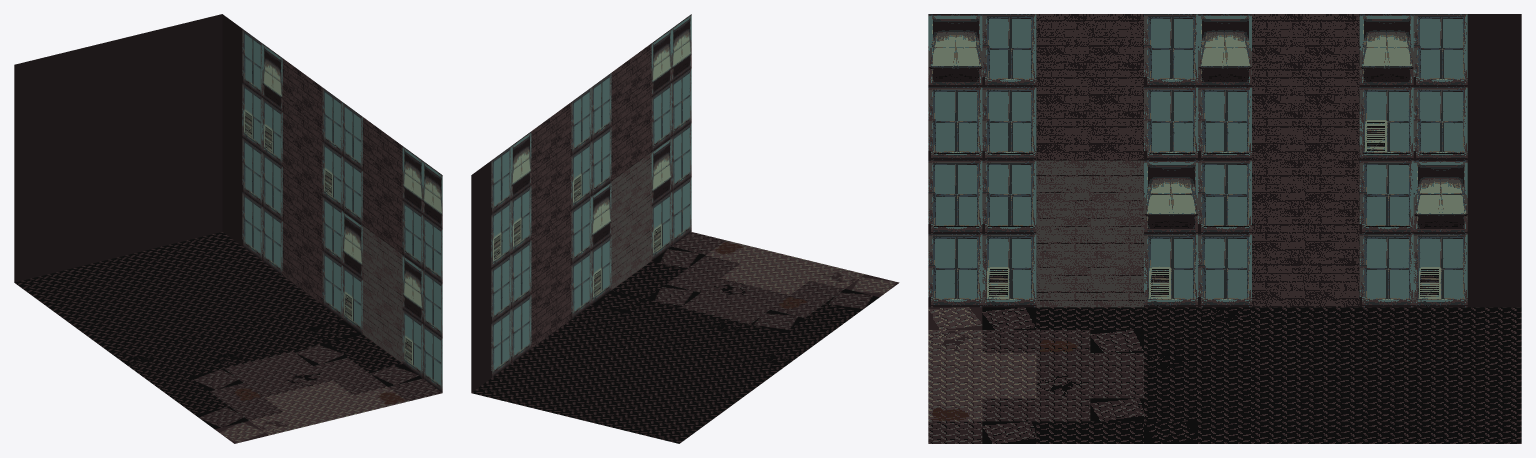
The model's file is Background.glb.
3 renders of one model, left to right at view 1: azimuth 30°, elevation 25°; view 2: azimuth 150°, elevation 25°; view 3: azimuth 270°, elevation 25°, orthographic. The views are drawn at different scales.
Parts seen in each view (by area): view 1: default; view 2: default; view 3: default.
Part boxes in pixels (x1,y1,x2,y2): default: (14,14,442,443); default: (471,14,899,443); default: (928,14,1521,443).
Bounding box in the file's own units: 24 × 24 × 44.
2 materials, 2 textured.
